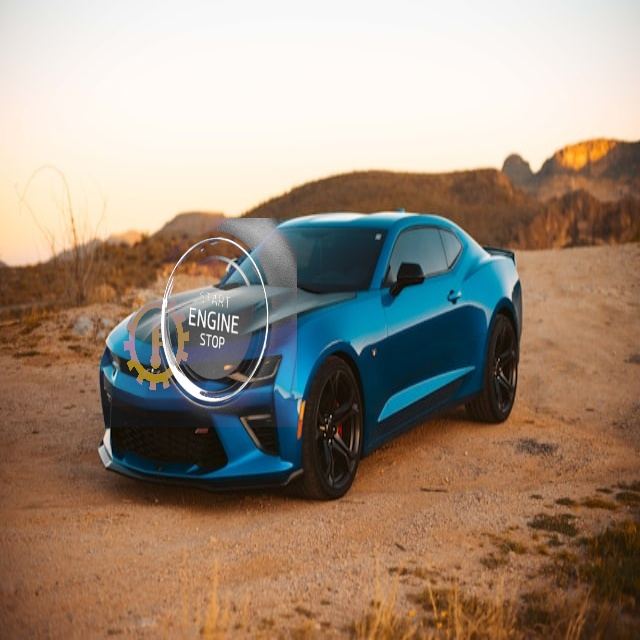symbol: (88, 218, 297, 427), (89, 272, 223, 406)
